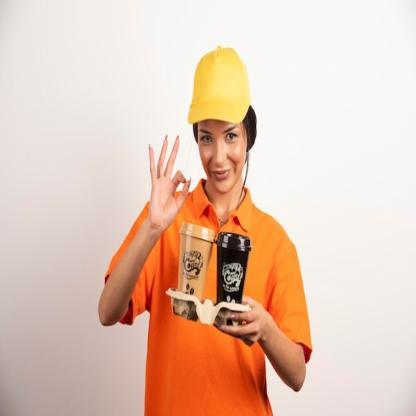ok: (146, 130, 194, 235)
